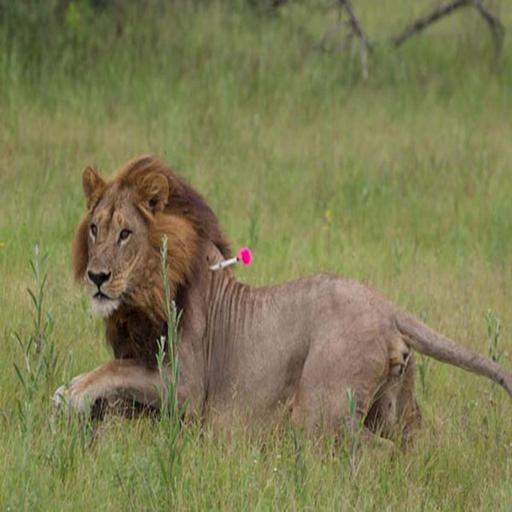Lion: (38, 154, 512, 469)
